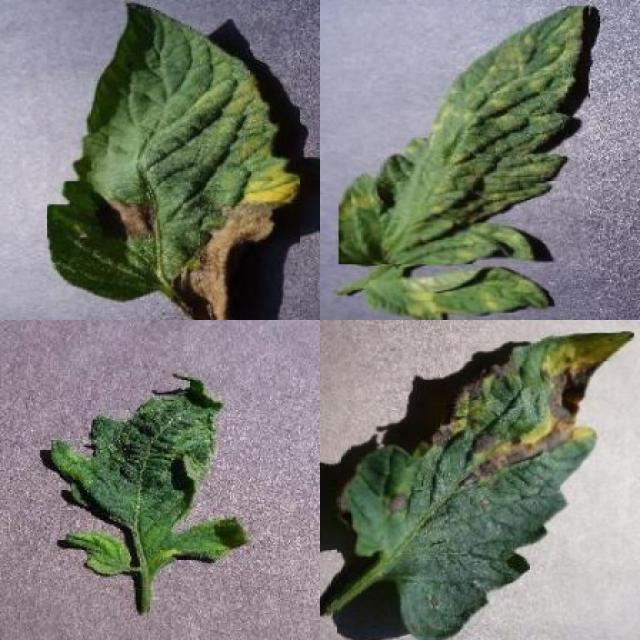Early Blight: (338, 333, 635, 640)
Late Blight: (47, 0, 300, 320)
Leaf Mold: (338, 6, 588, 264), (368, 266, 548, 320)
Mosaic Virus: (49, 370, 247, 577)
